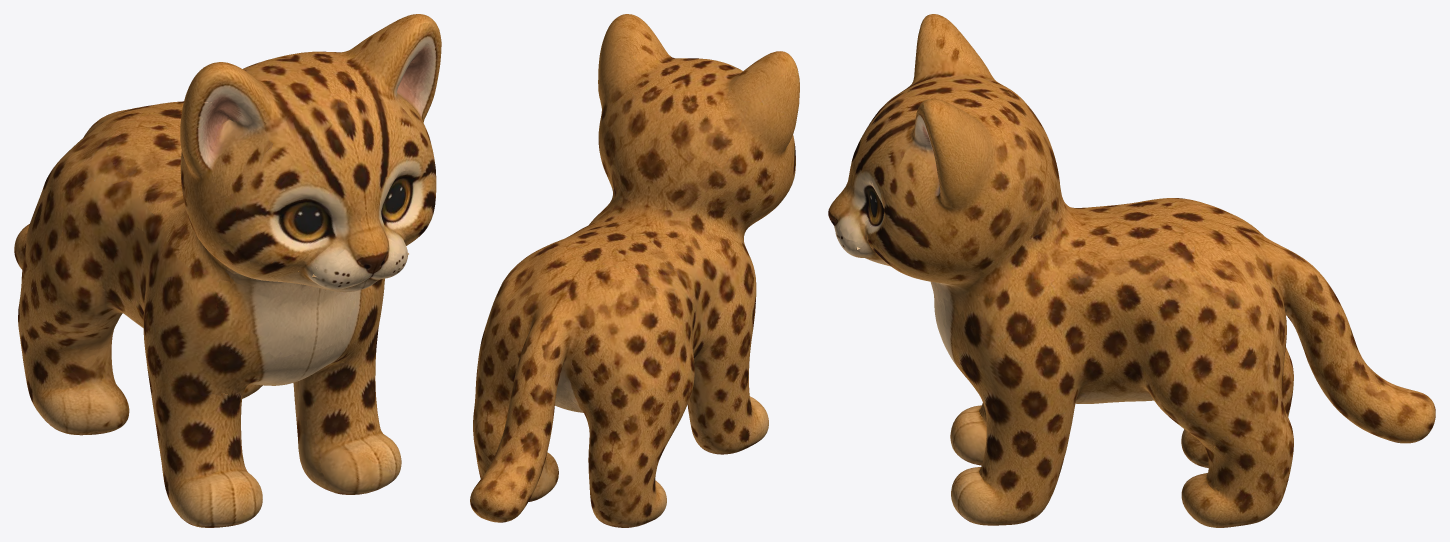
The model's file is meshy-ocicat.glb.
The picture shows the model from 3 angles, left to right: view 1: azimuth 30°, elevation 25°; view 2: azimuth 150°, elevation 25°; view 3: azimuth 270°, elevation 25°; orthographic projection. The views are drawn at different scales.
Visible parts, largest first — view 1: Mesh_0; view 2: Mesh_0; view 3: Mesh_0.
Part boxes in pixels (bbox=[...]): Mesh_0: bbox=[14, 14, 441, 527]; Mesh_0: bbox=[470, 14, 799, 527]; Mesh_0: bbox=[828, 14, 1435, 527].
Size of the model in its own units: 0.8101 by 1.49 by 1.9.
1 material, 1 textured.
